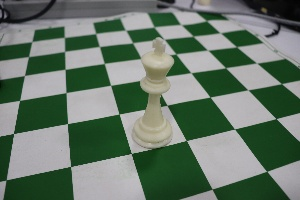white_king: (123, 29, 178, 153)
